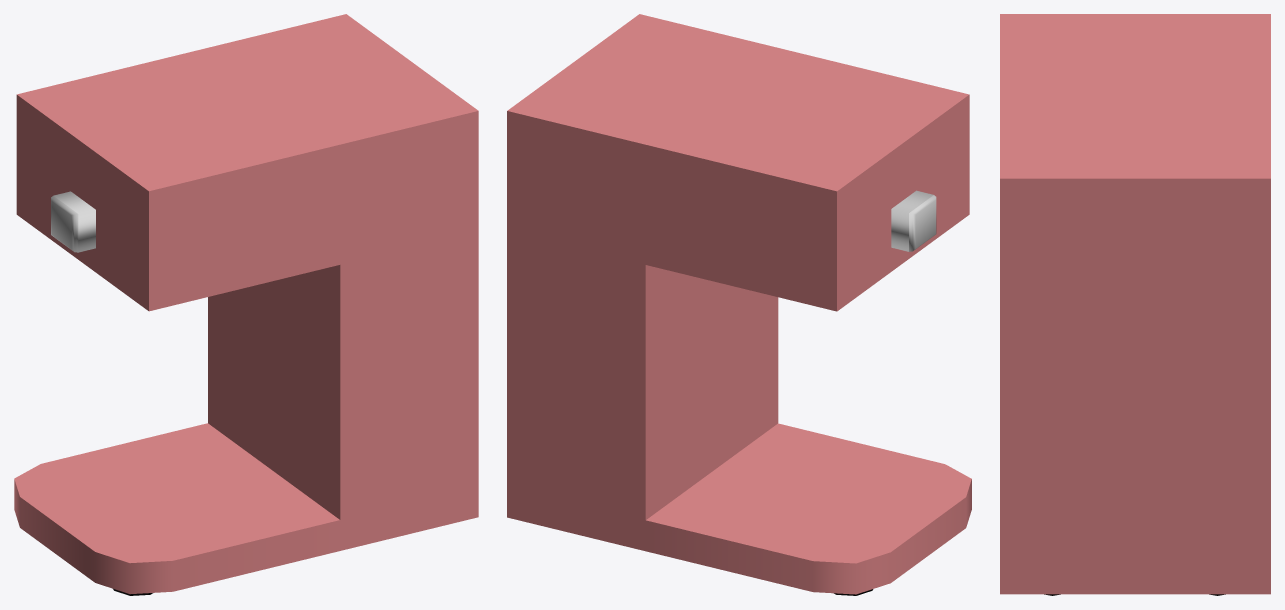
Rendered from Coffe Maker.fbx.
3 views of the same model, side by side, from view 1: azimuth 30°, elevation 25°; view 2: azimuth 150°, elevation 25°; view 3: azimuth 270°, elevation 25° (orthographic). The views are drawn at different scales.
Parts seen in each view (by area): view 1: Cube.005; view 2: Cube.005; view 3: Cube.005.
Boxes of the visible parts, x1=… form: Cube.005: x1=14, y1=14, x2=478, y2=595; Cube.005: x1=507, y1=14, x2=971, y2=595; Cube.005: x1=1000, y1=14, x2=1270, y2=595.
Bounding box in the file's own units: 44.18 × 50.2 × 28.53.
